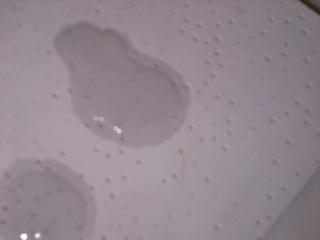Water_detected: (66, 41, 173, 129), (13, 166, 82, 236)
